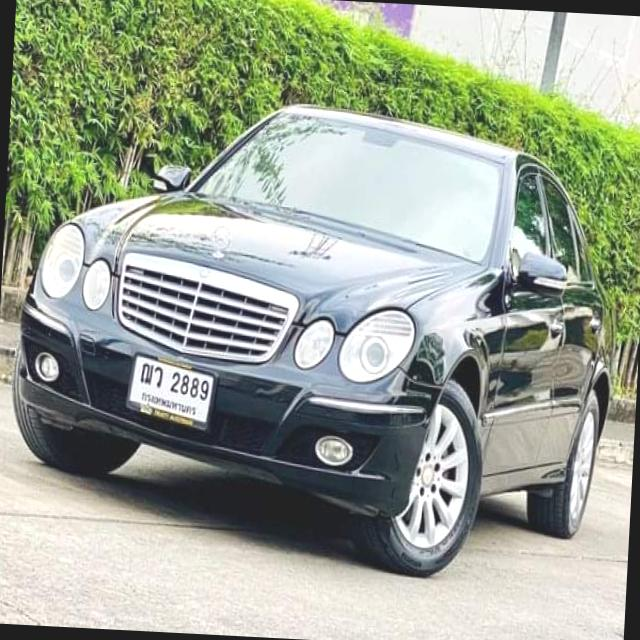license_plate: (123, 348, 220, 438)
